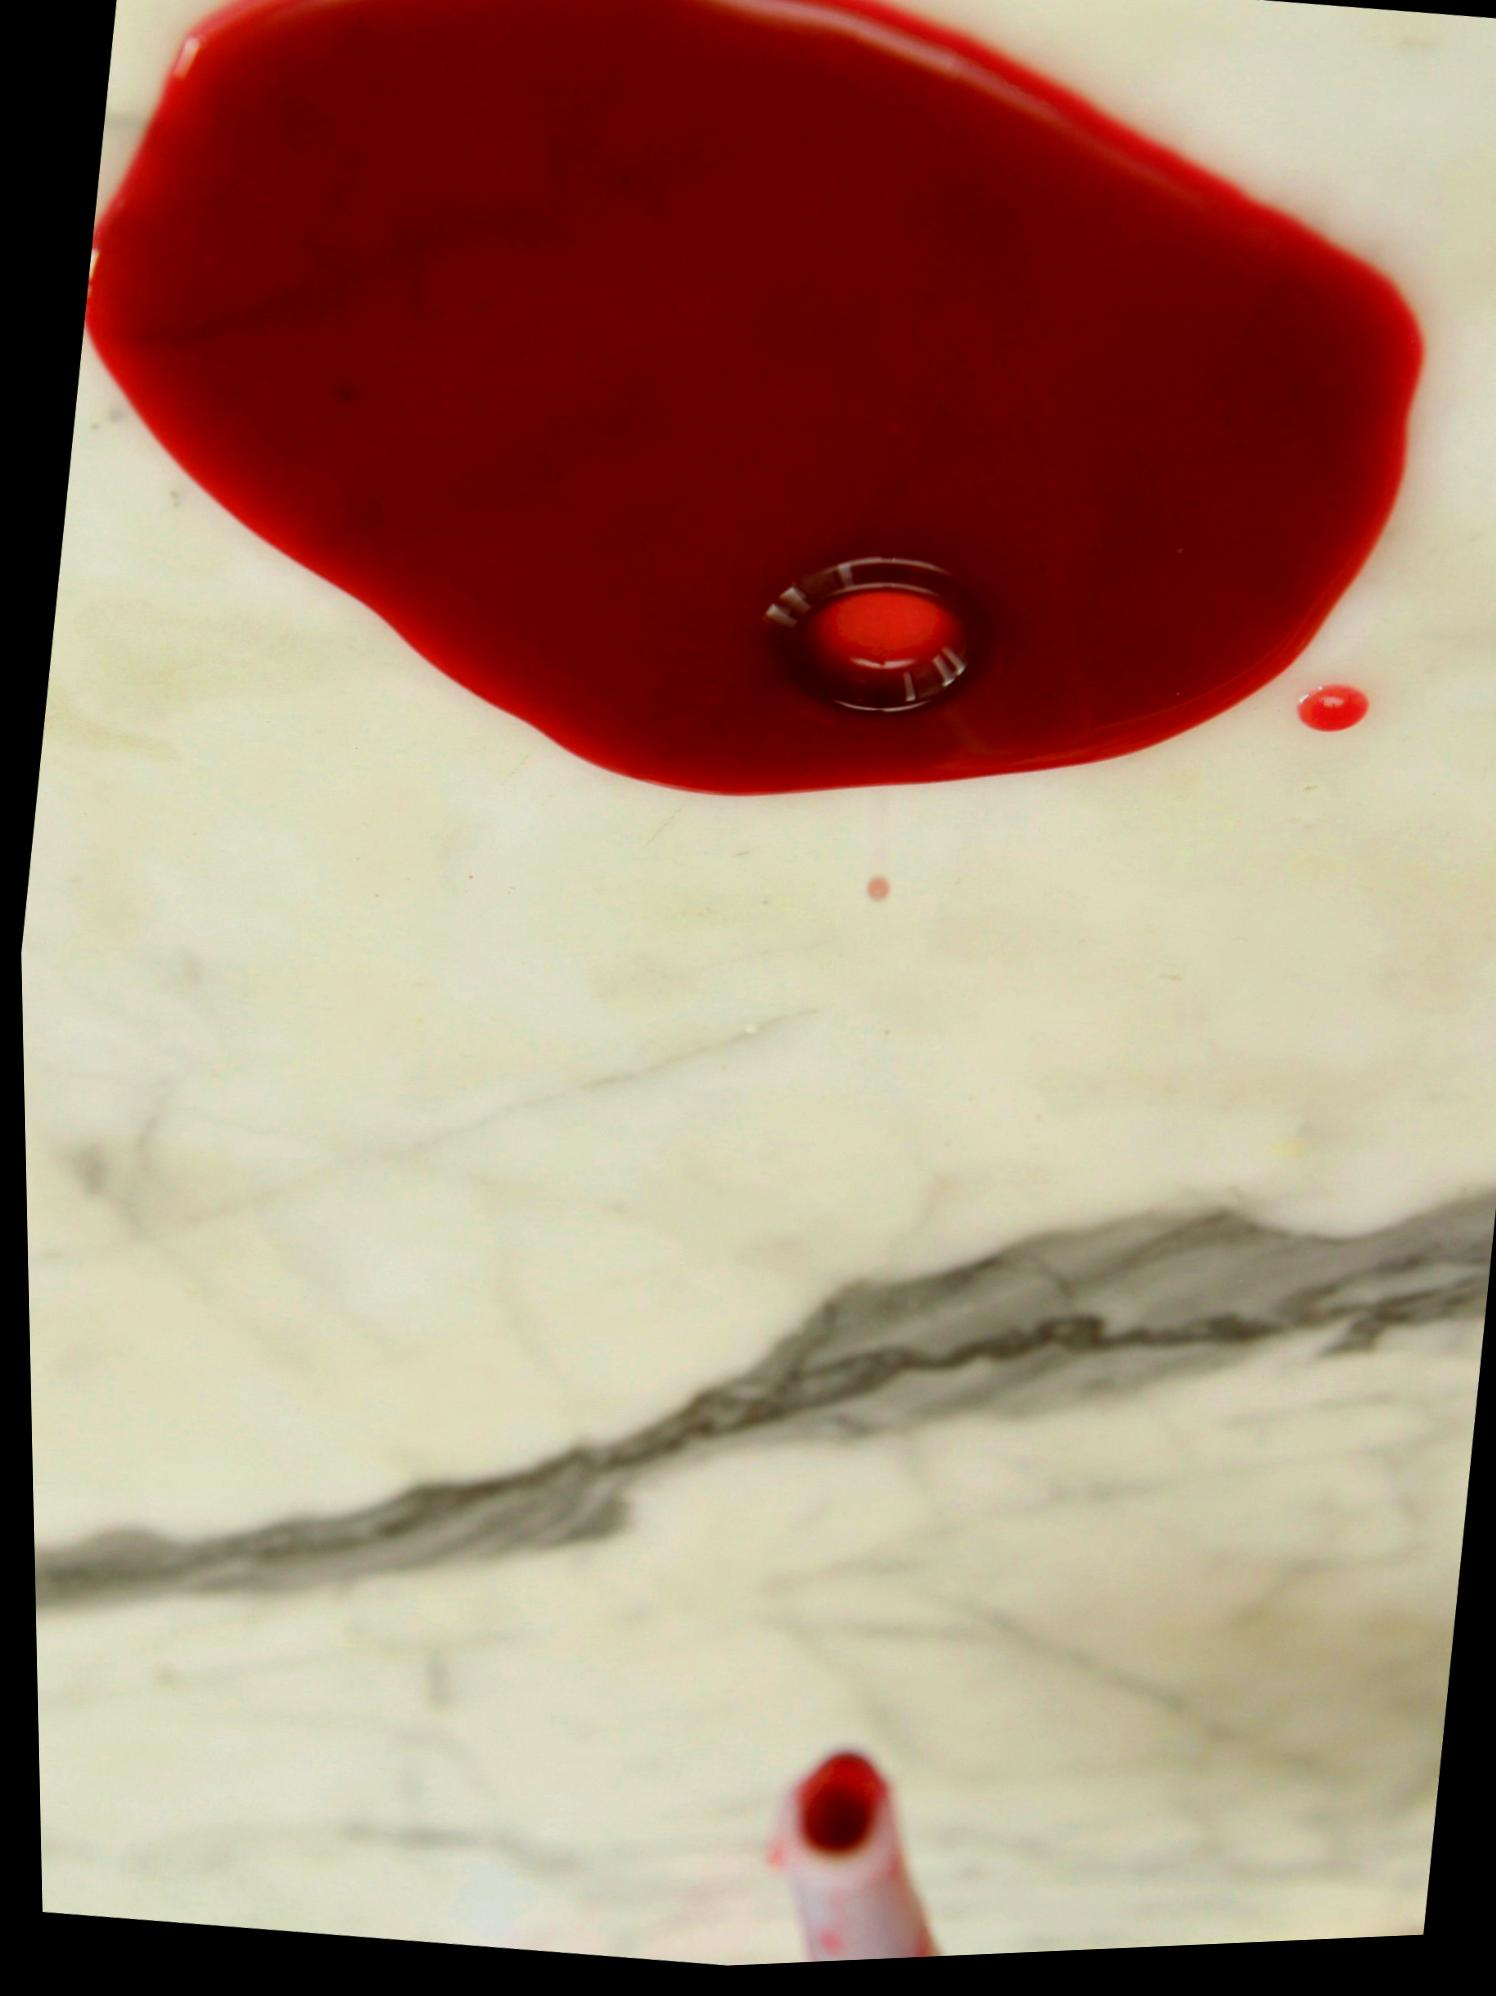Fire: (82, 0, 1424, 803), (1293, 698, 1366, 745)
